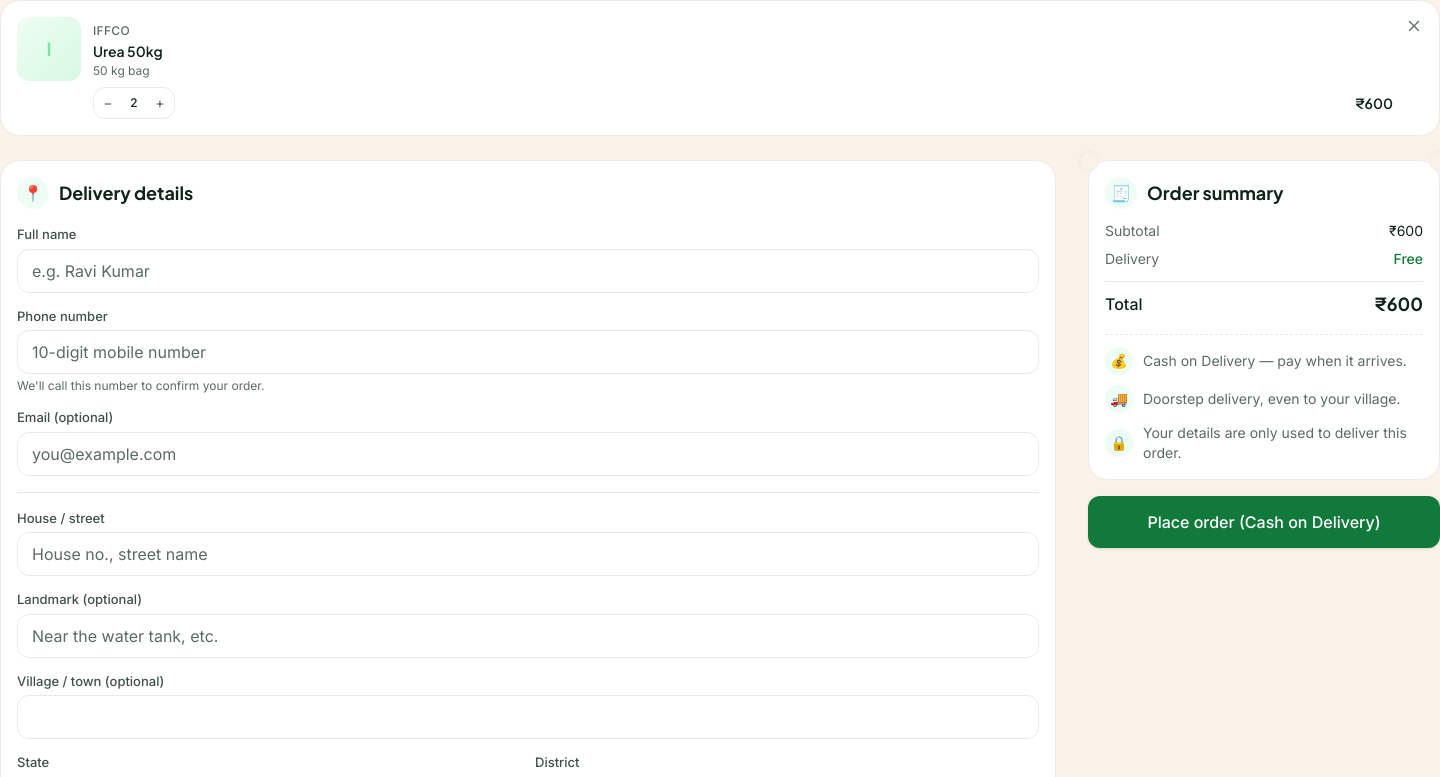
Test: CartItemsList › shows the empty-cart message once every item has been optimistically removed
Click the button named "Remove item": (1414, 26) [1405,17,1423,35]
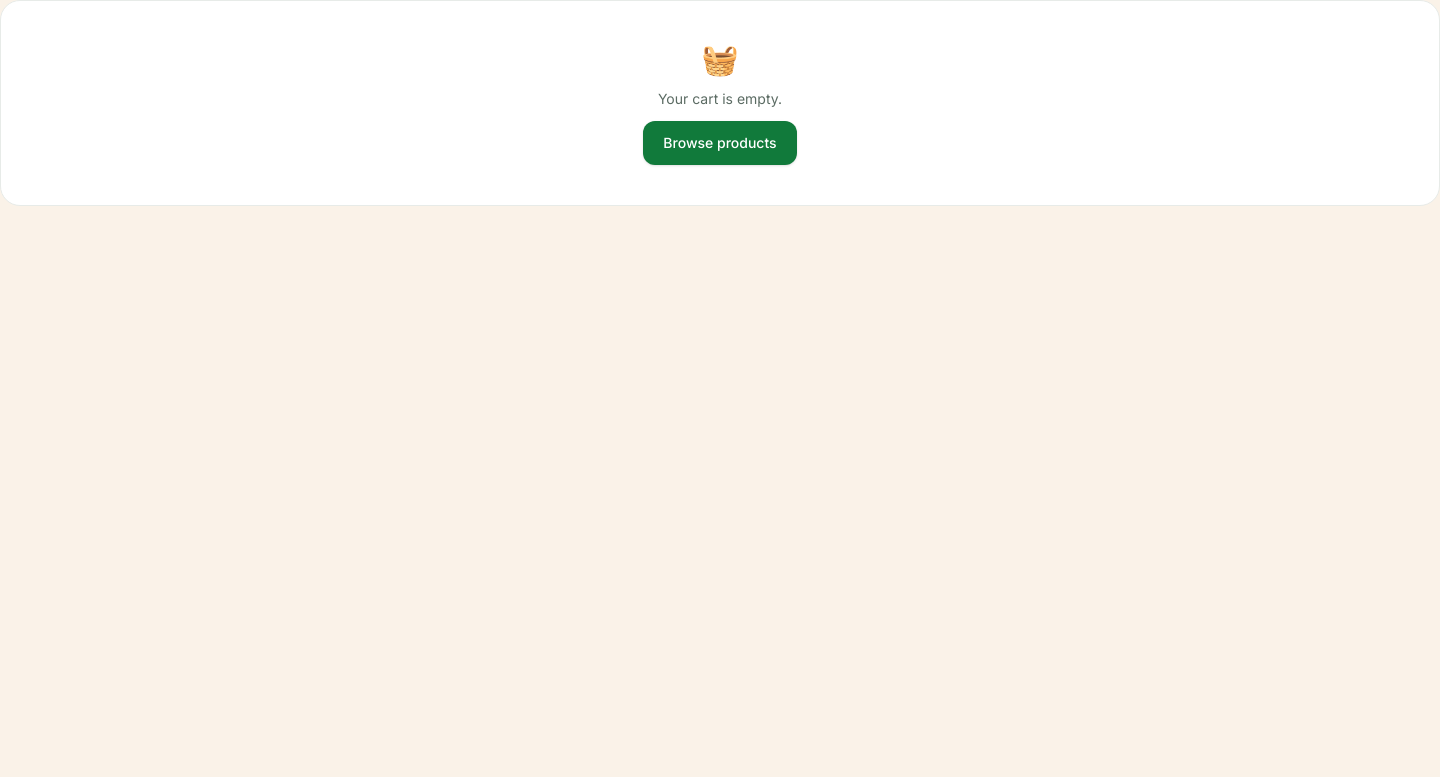
Now the text "Your cart is empty." is shown, box [658,89,782,109]
